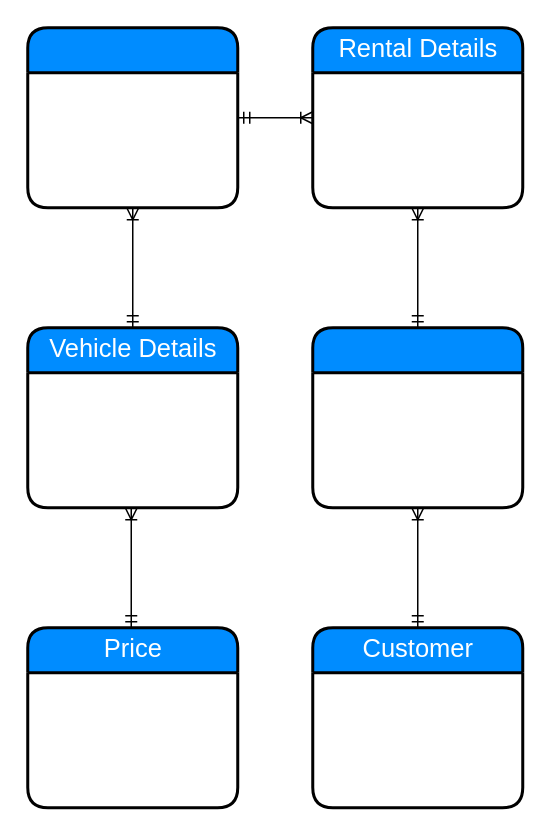
This 549x834 diagram has some shape labels left out. The shapes that lost their labels are listed below. From the top down, each one's box as (x1, y1, x2, y2) in pixels, then its label:
(26, 26, 238, 208): Car
(310, 326, 524, 508): Rental
